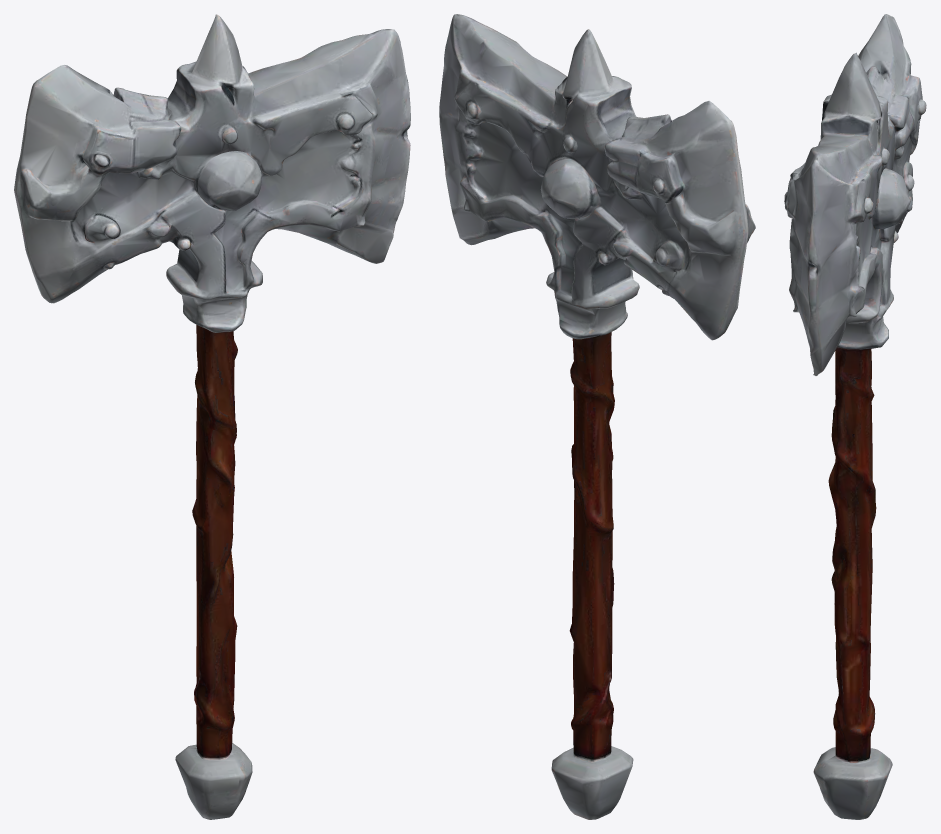
Rendered from comum-maca.glb.
3 renders of one model, left to right at view 1: azimuth 30°, elevation 25°; view 2: azimuth 150°, elevation 25°; view 3: azimuth 270°, elevation 25°, orthographic. The views are drawn at different scales.
Visible parts, largest first — view 1: tripo_node_c9e268fa-20a1-4bb9-bbdd-ac02642e6c6d; view 2: tripo_node_c9e268fa-20a1-4bb9-bbdd-ac02642e6c6d; view 3: tripo_node_c9e268fa-20a1-4bb9-bbdd-ac02642e6c6d.
Boxes of the visible parts, <box> form: tripo_node_c9e268fa-20a1-4bb9-bbdd-ac02642e6c6d: <box>14,14,410,819</box>; tripo_node_c9e268fa-20a1-4bb9-bbdd-ac02642e6c6d: <box>439,14,755,819</box>; tripo_node_c9e268fa-20a1-4bb9-bbdd-ac02642e6c6d: <box>784,14,926,819</box>.
Size of the model in its own units: 0.4524 by 0.975 by 0.1647.
Materials: 1 (1 with a texture image).
